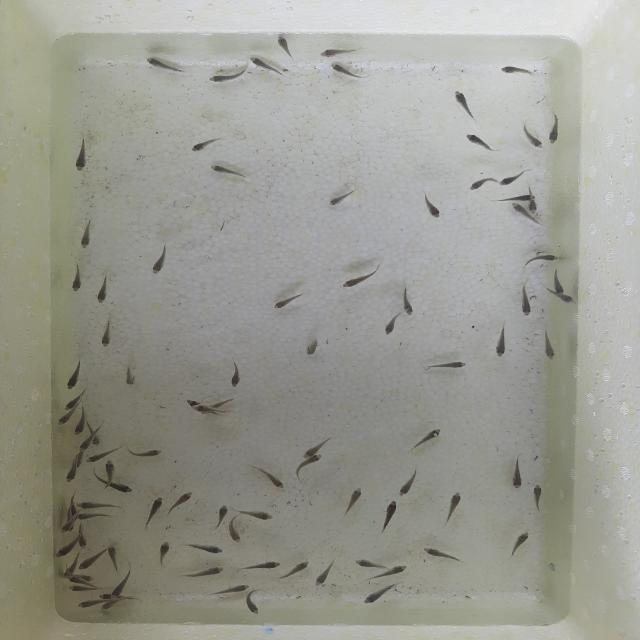fingerling: (325, 62, 378, 86), (356, 580, 401, 608), (68, 130, 94, 178), (447, 86, 481, 122), (457, 129, 503, 155), (334, 484, 365, 522), (144, 54, 192, 78), (403, 425, 444, 453), (249, 462, 288, 491), (414, 187, 447, 221), (339, 264, 382, 290), (146, 240, 175, 278), (247, 54, 287, 81), (494, 58, 542, 80), (320, 186, 364, 210), (74, 213, 100, 250), (503, 528, 532, 561), (420, 356, 472, 374), (141, 494, 166, 531), (439, 488, 463, 526), (314, 44, 370, 60), (205, 162, 252, 181), (420, 545, 466, 564), (207, 66, 250, 86), (271, 289, 309, 311), (396, 465, 422, 497), (166, 489, 194, 518), (226, 356, 250, 389), (378, 497, 400, 533), (544, 109, 564, 148), (176, 565, 228, 580), (492, 319, 511, 359), (67, 260, 89, 294), (537, 326, 558, 361), (183, 539, 226, 556), (520, 122, 544, 152), (186, 136, 222, 156), (93, 272, 113, 308), (97, 316, 117, 352), (516, 281, 535, 318), (313, 561, 338, 588), (378, 312, 402, 340), (64, 359, 85, 391), (153, 539, 174, 570), (274, 31, 298, 58), (529, 480, 546, 518), (238, 558, 284, 572), (466, 174, 498, 194), (115, 361, 139, 387), (283, 558, 314, 578), (508, 452, 524, 490), (499, 167, 529, 187), (126, 445, 166, 460), (77, 550, 105, 571), (523, 251, 560, 266), (348, 556, 385, 571), (242, 591, 263, 616), (225, 518, 244, 544), (211, 581, 251, 593), (211, 504, 229, 530), (76, 501, 123, 510), (402, 285, 415, 317), (243, 508, 275, 521), (65, 452, 78, 483), (106, 542, 120, 570), (386, 562, 410, 577), (54, 542, 76, 558), (304, 337, 322, 356), (552, 268, 565, 294), (497, 194, 538, 202), (102, 459, 117, 480), (72, 598, 99, 609), (509, 200, 527, 216), (554, 293, 578, 305), (76, 512, 112, 520), (111, 482, 134, 494), (85, 452, 106, 464), (72, 419, 86, 436), (191, 403, 211, 414), (99, 600, 117, 612), (66, 584, 90, 593), (55, 414, 70, 428), (525, 199, 538, 215), (62, 398, 76, 412), (77, 439, 92, 452), (110, 586, 125, 599), (60, 520, 73, 534), (64, 575, 84, 584), (309, 454, 324, 464), (77, 536, 89, 548), (300, 448, 314, 458), (82, 573, 97, 582), (184, 398, 200, 406), (92, 435, 102, 447), (98, 591, 110, 599)
